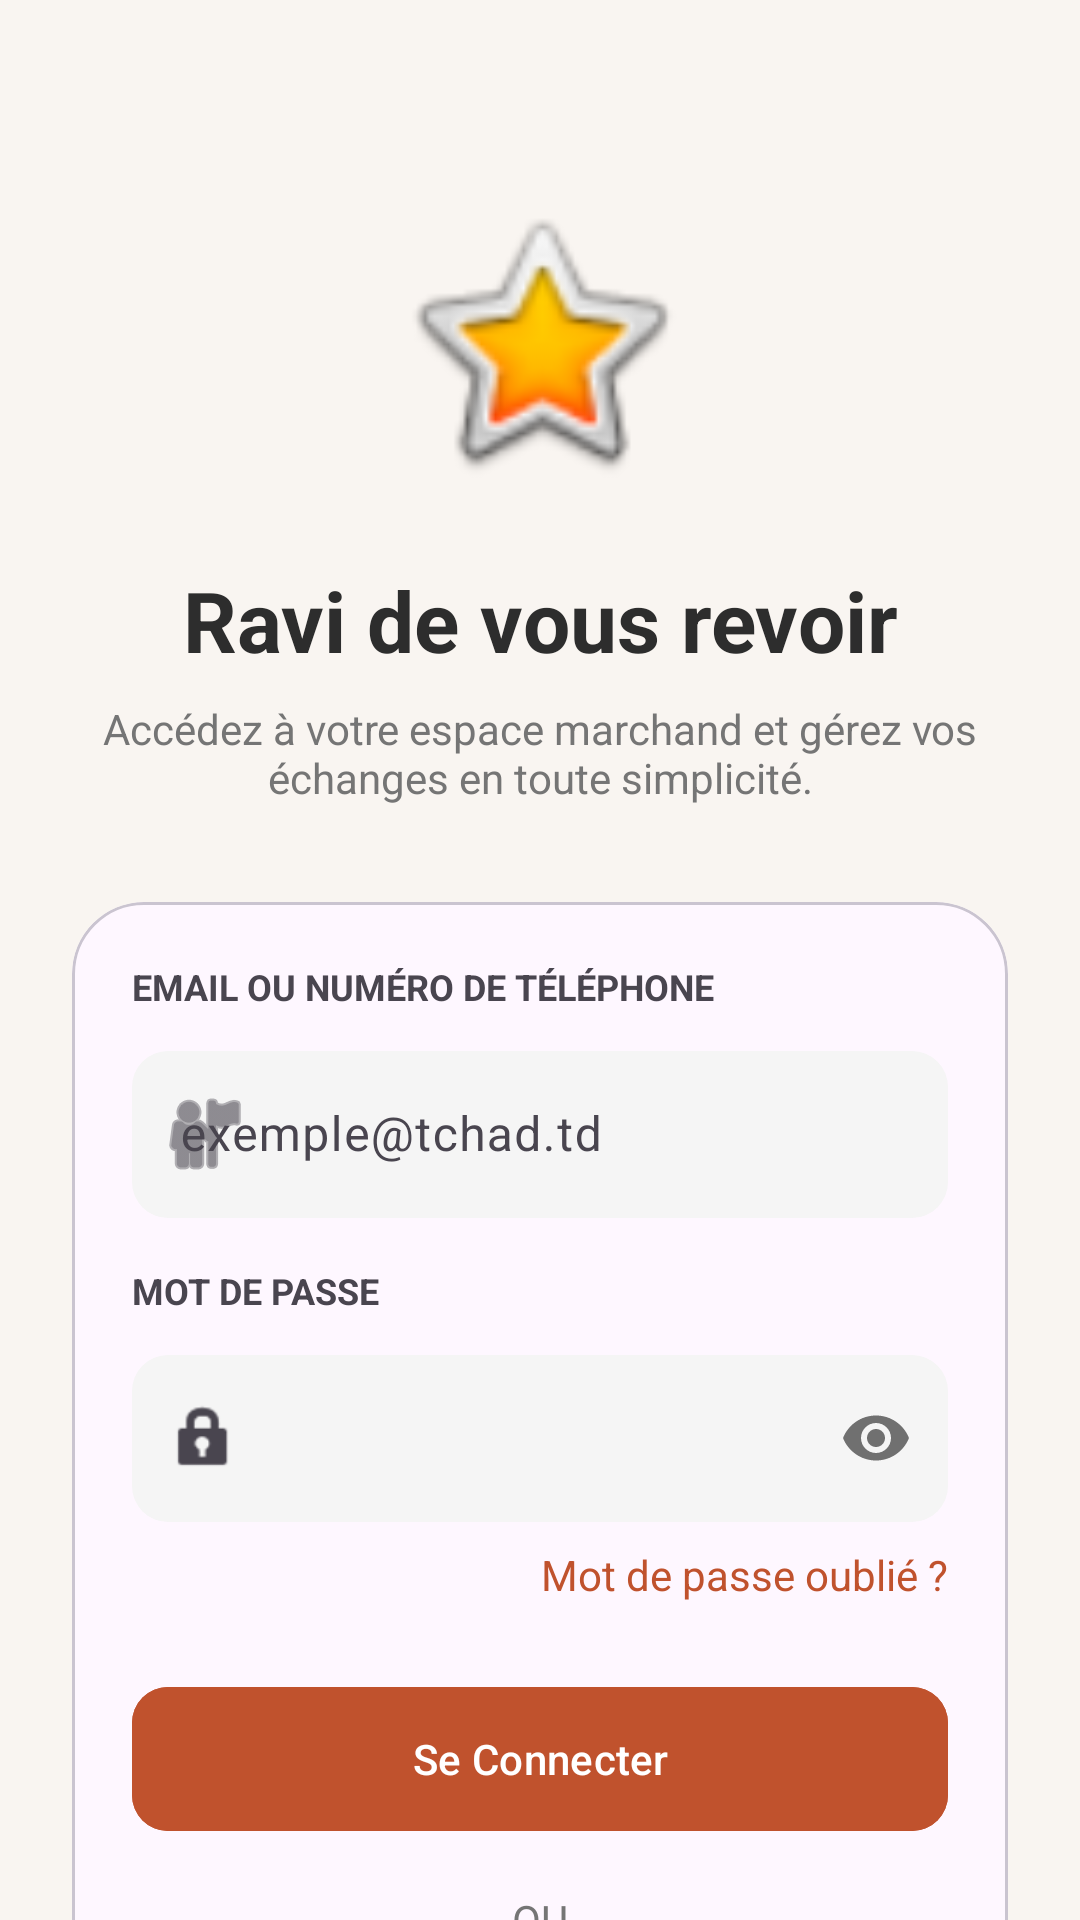

Where icons sit on this 1080*1920 app screen, as rect(x1, y1, x2, y2):
star on: rect(417, 222, 668, 466)
